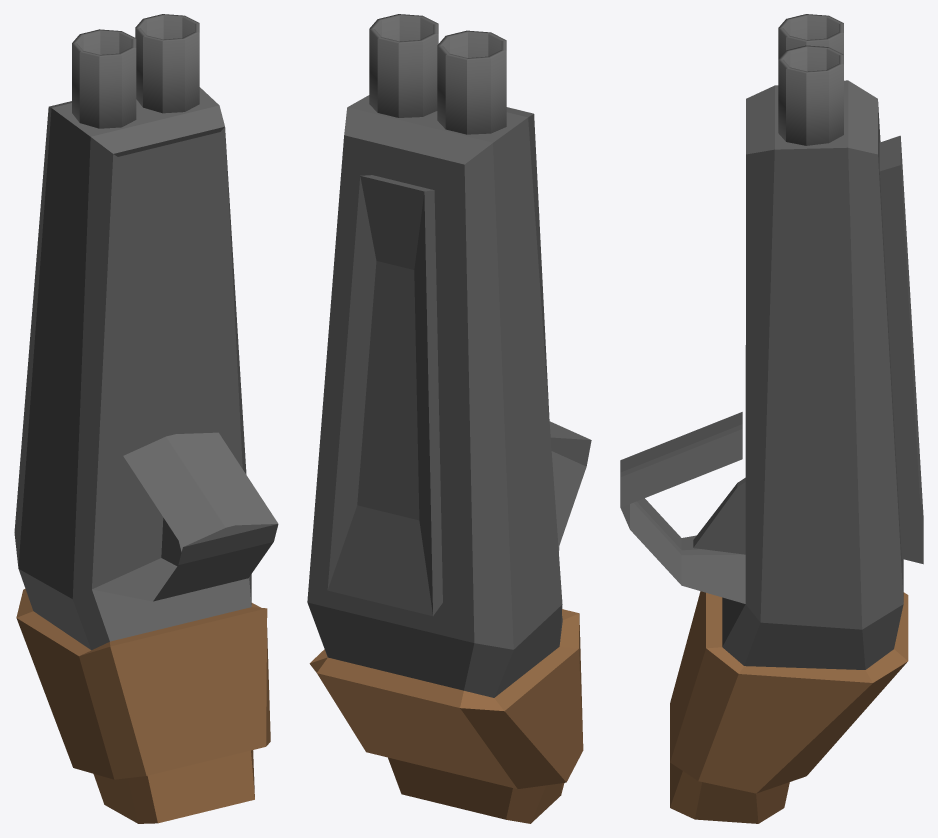
File: pistol_001.glb
3 renders of one model, left to right at view 1: azimuth 30°, elevation 25°; view 2: azimuth 150°, elevation 25°; view 3: azimuth 270°, elevation 25°, orthographic. The views are drawn at different scales.
Visible parts, largest first — view 1: pistol.001; view 2: pistol.001; view 3: pistol.001.
Boxes of the visible parts, <box> form: pistol.001: <box>14,14,278,823</box>; pistol.001: <box>307,14,591,823</box>; pistol.001: <box>620,14,923,823</box>.
Size of the model in its own units: 0.1815 by 0.6798 by 0.2486.
1 material, 1 textured.
